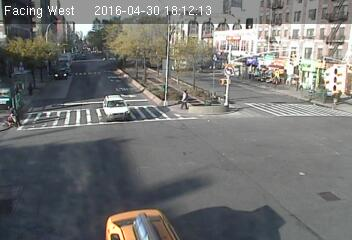pos: (173, 81, 199, 117), (6, 103, 24, 128), (21, 80, 37, 101), (328, 92, 341, 110)
